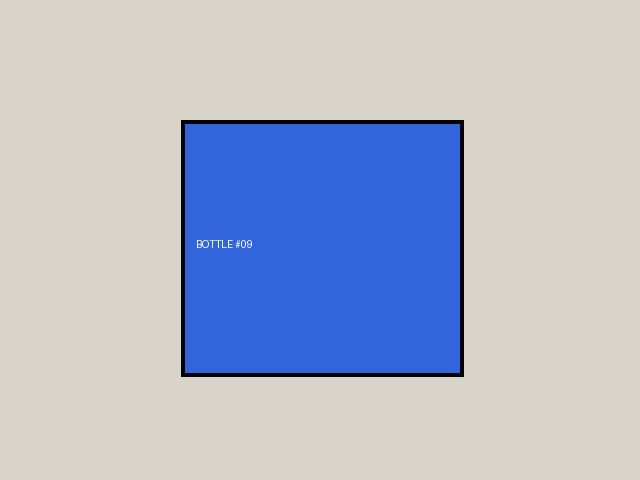bottle: (181, 120, 463, 376)
